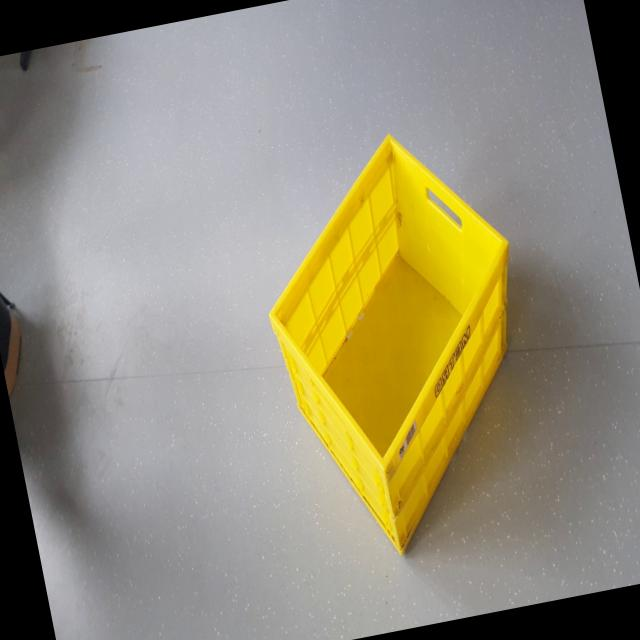box: (214, 92, 587, 588)
